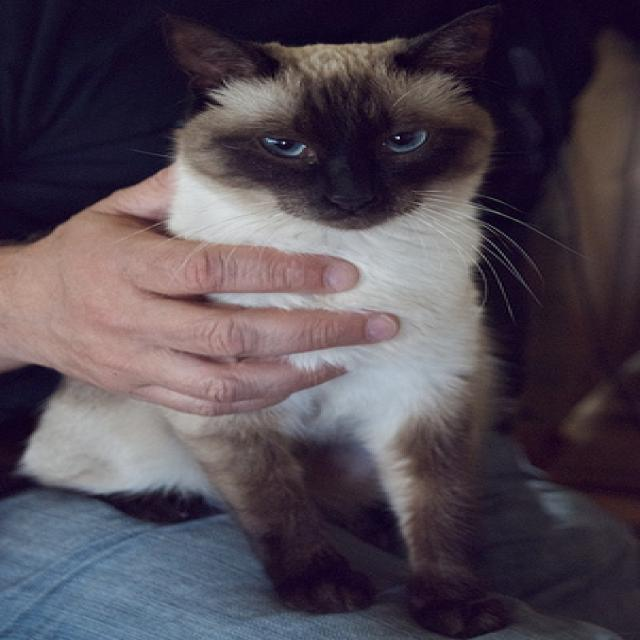Siamese: (13, 0, 519, 640)
